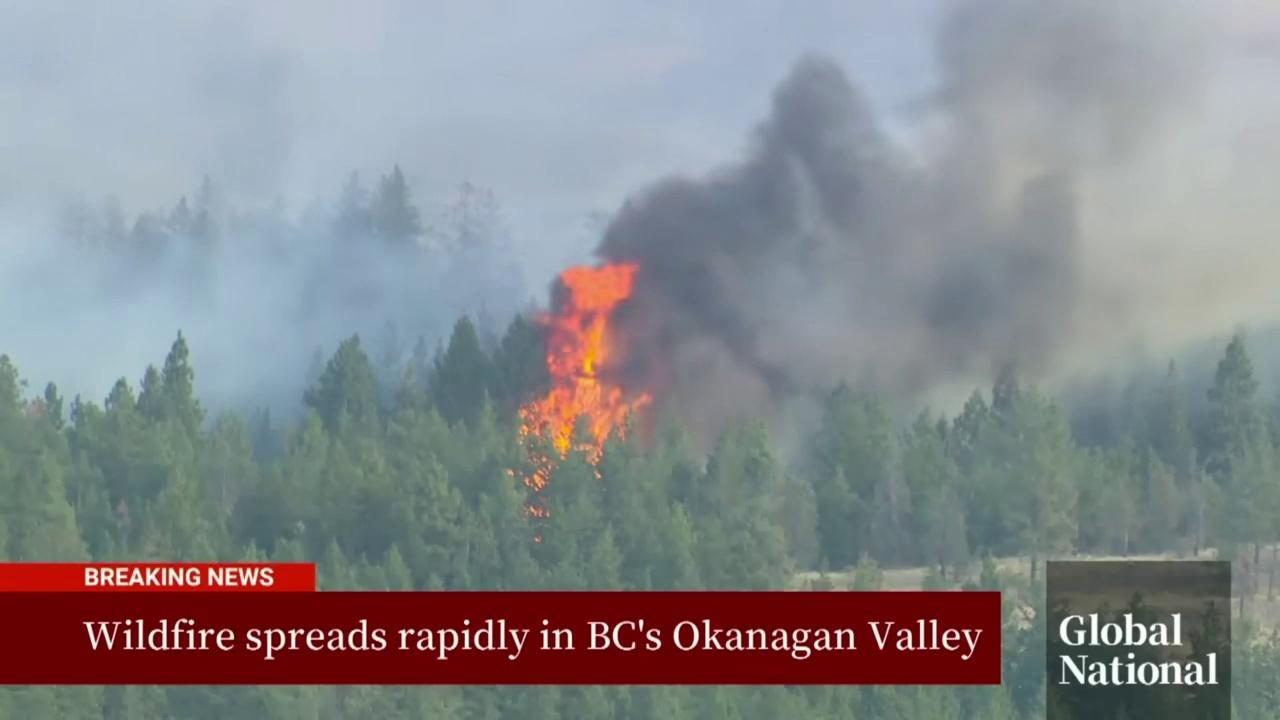fire: (505, 259, 656, 530)
smoke: (0, 0, 1280, 444)
